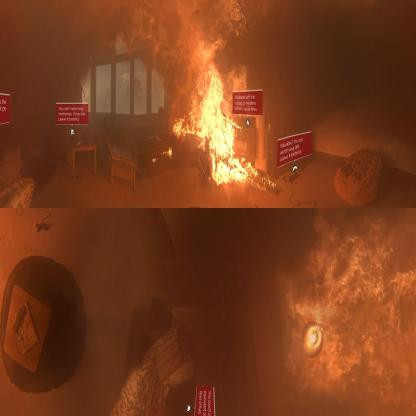fire: (174, 63, 270, 188)
